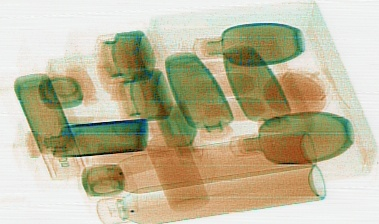pressure: (85, 128, 317, 196), (94, 162, 325, 223)
